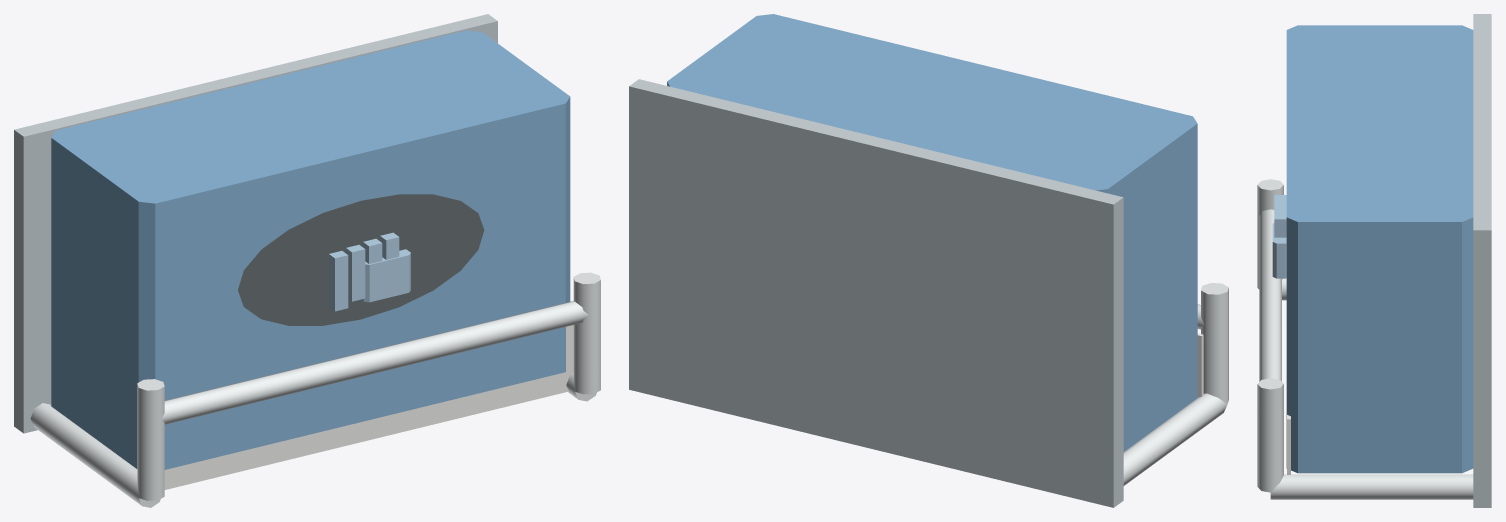
Rendered from gloveHolder.glb.
3 renders of one model, left to right at view 1: azimuth 30°, elevation 25°; view 2: azimuth 150°, elevation 25°; view 3: azimuth 270°, elevation 25°, orthographic. The views are drawn at different scales.
Visible parts, largest first — view 1: Nitrilhandskar med hållare; view 2: Nitrilhandskar med hållare; view 3: Nitrilhandskar med hållare.
Part boxes in pixels (x1,y1,x2,y2): Nitrilhandskar med hållare: (14, 14, 600, 507); Nitrilhandskar med hållare: (629, 14, 1228, 507); Nitrilhandskar med hållare: (1257, 14, 1491, 507).
Bounding box in the file's own units: 0.27 × 0.1615 × 0.1234.
